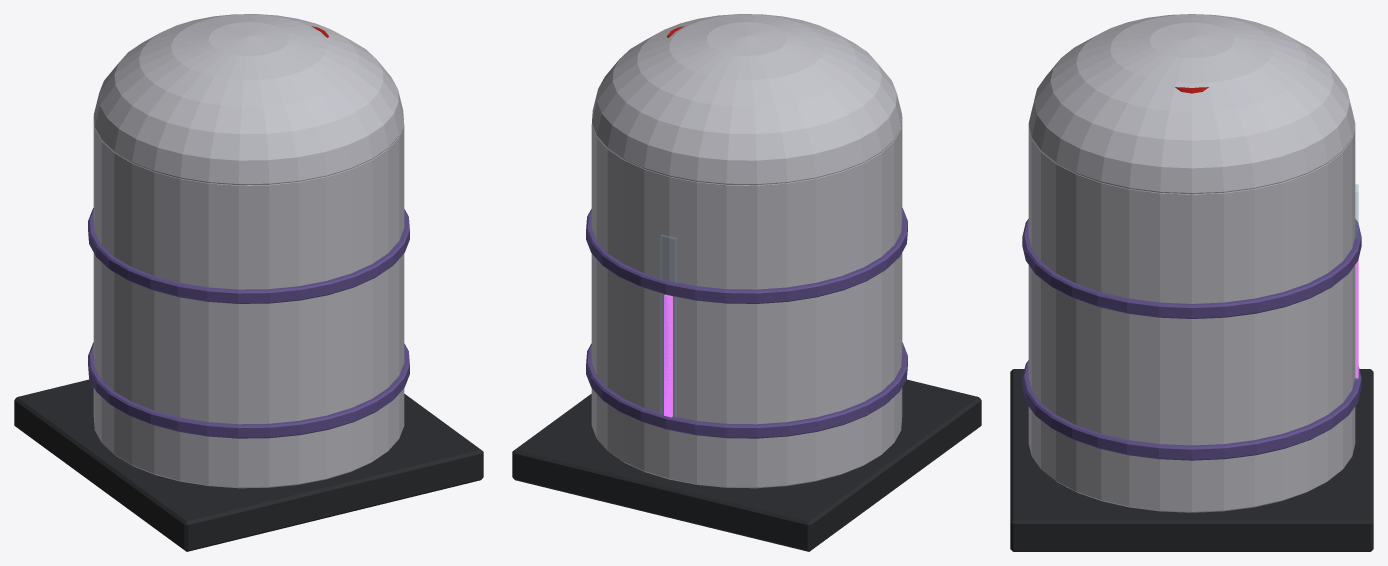
The model's file is jump_tank.glb.
The picture shows the model from 3 angles, left to right: view 1: azimuth 30°, elevation 25°; view 2: azimuth 150°, elevation 25°; view 3: azimuth 270°, elevation 25°; orthographic projection. The views are drawn at different scales.
Parts seen in each view (by area): view 1: jump_tank; view 2: jump_tank; view 3: jump_tank.
Boxes of the visible parts, left/top/right/bottom form: jump_tank: left=14, top=14, right=483, bottom=551; jump_tank: left=512, top=14, right=981, bottom=551; jump_tank: left=1010, top=14, right=1373, bottom=551.
Bounding box in the file's own units: 1.2 × 1.6 × 1.2.
